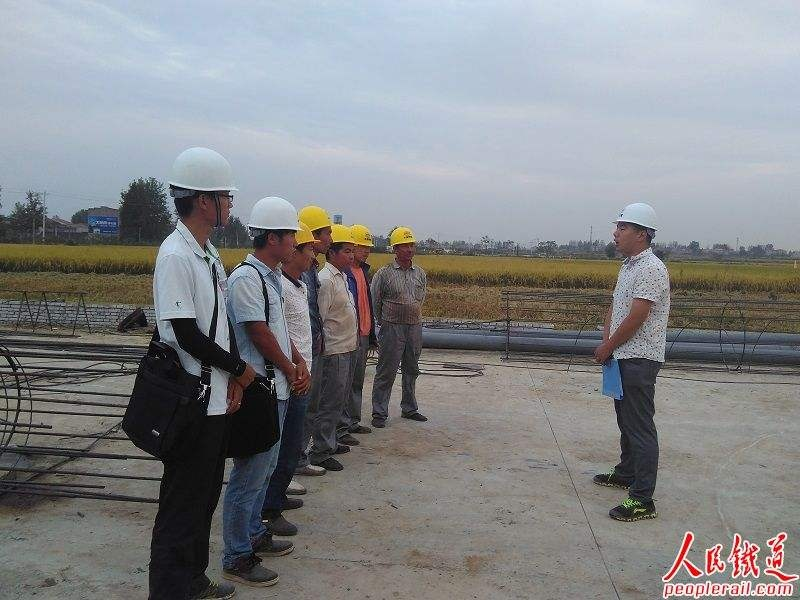white: (167, 141, 237, 236), (245, 193, 297, 263), (608, 201, 660, 260)
yellow: (297, 202, 333, 257), (285, 219, 316, 275), (323, 223, 355, 273), (387, 224, 418, 263), (350, 223, 375, 268)
